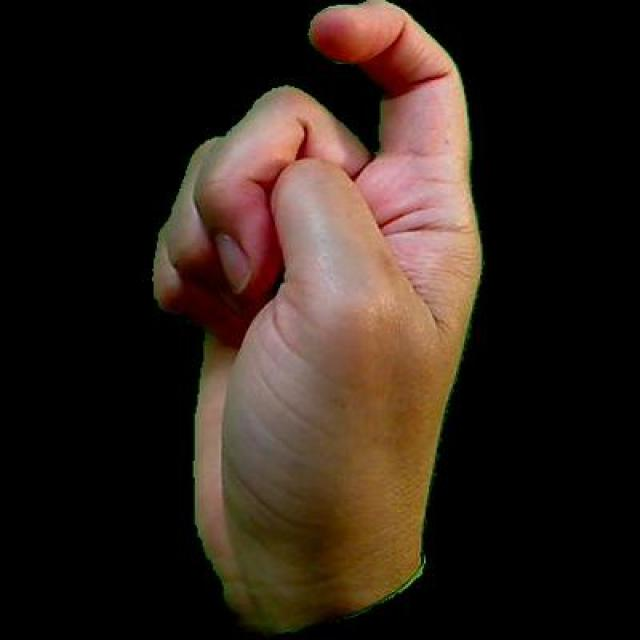x: (139, 0, 485, 637)
